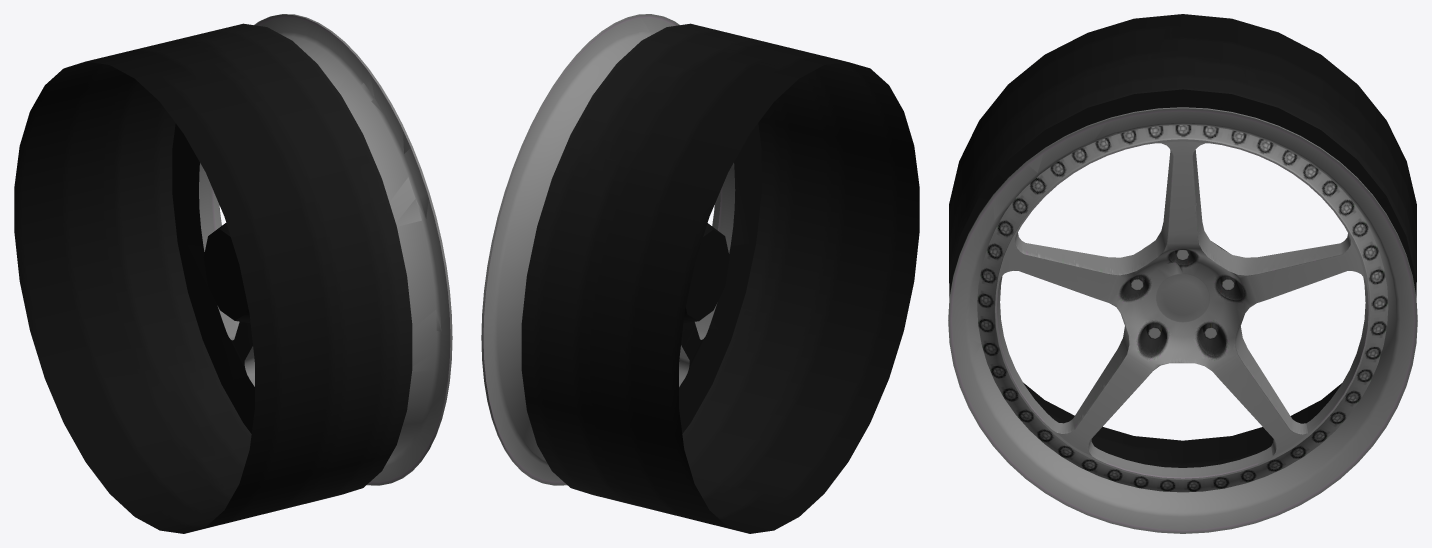
File: wheel55.fbx
3 views of the same model, side by side, from view 1: azimuth 30°, elevation 25°; view 2: azimuth 150°, elevation 25°; view 3: azimuth 270°, elevation 25° (orthographic). The views are drawn at different scales.
Visible parts, largest first — view 1: hre_445r_wheel_wheel_inner_rim_, wheel_rim; view 2: hre_445r_wheel_wheel_inner_rim_, wheel_rim, hre_445r_wheel_wheel_rim_; view 3: wheel_rim, hre_445r_wheel_wheel_inner_rim_, hre_445r_wheel_wheel_rim_.
Part boxes in pixels (x1,y1,x2,y2): hre_445r_wheel_wheel_inner_rim_: (14, 23, 412, 533); wheel_rim: (199, 14, 452, 485); hre_445r_wheel_wheel_inner_rim_: (521, 23, 919, 533); wheel_rim: (481, 14, 720, 485); hre_445r_wheel_wheel_rim_: (492, 163, 735, 482); wheel_rim: (948, 107, 1417, 533); hre_445r_wheel_wheel_inner_rim_: (949, 14, 1416, 467); hre_445r_wheel_wheel_rim_: (978, 125, 1383, 491).
Size of the model in its own units: 0.227 by 0.482 by 0.4809.
1 material, 1 textured.
